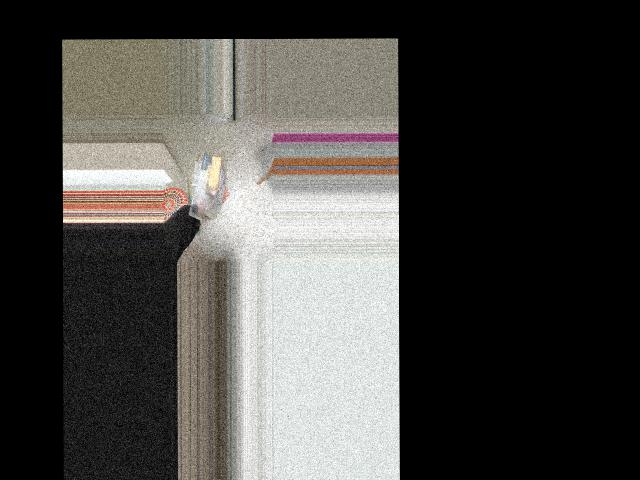cheese: (186, 152, 227, 219)
